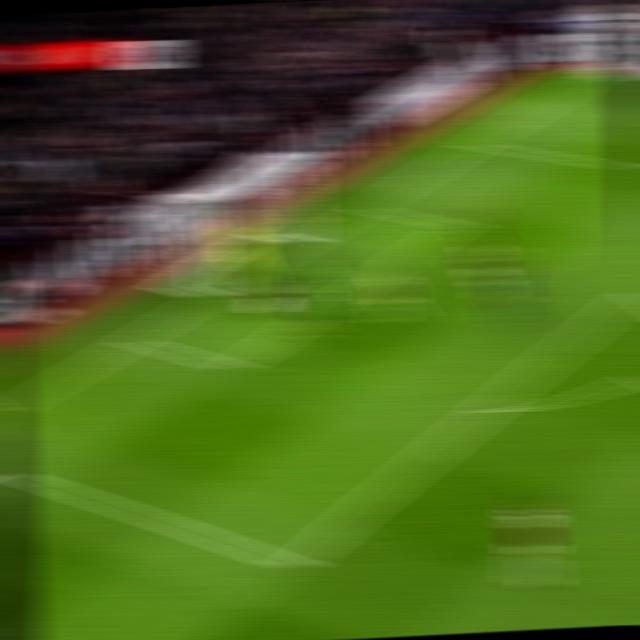bigarea_bottom_inner: (277, 550, 316, 586)
bigarea_top_outter: (459, 133, 494, 156)
bottom_arc_area_intersection: (467, 391, 511, 429)
corner: (579, 70, 611, 89)
smallarea_bottom_inner: (214, 352, 255, 382)
smallarea_bottom_outter: (115, 328, 154, 352)
smallarea_top_inner: (440, 215, 476, 238)
smallarea_top_outter: (349, 199, 384, 218)
